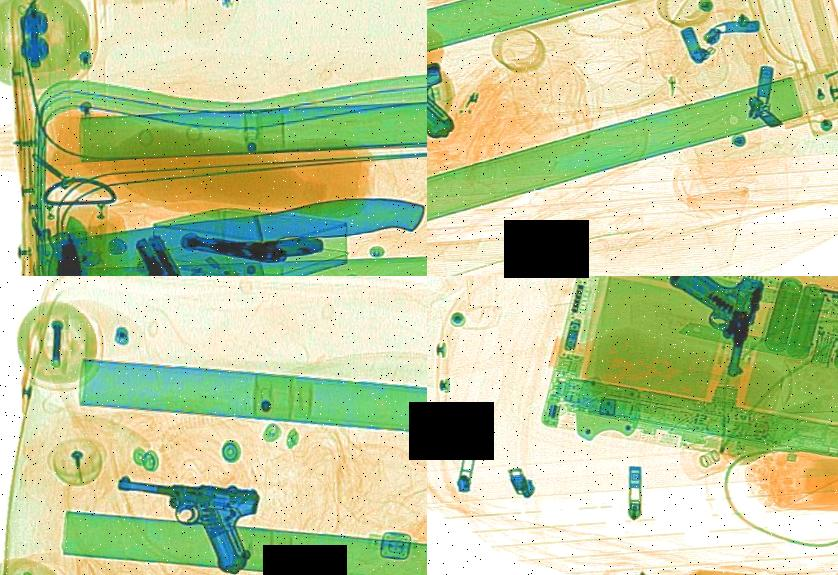Gun: (84, 467, 276, 575), (644, 276, 774, 381), (173, 210, 330, 276), (68, 226, 229, 276), (427, 62, 462, 150)
Knife: (34, 179, 427, 276), (14, 215, 124, 276)
